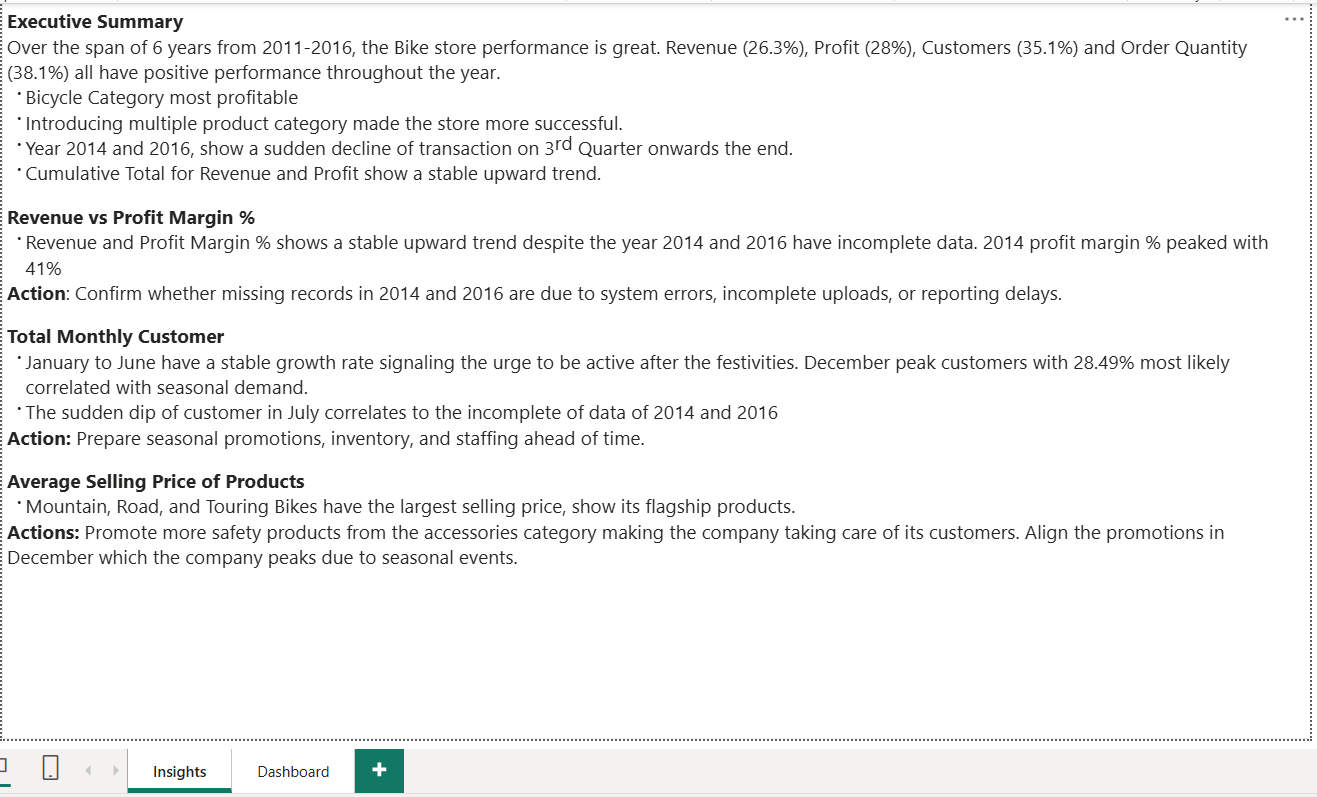

Layout of this report page (visuals, bound fields, positions):
{"tool":"powerbi","page":{"name":"Insights","canvas":[1280,720],"ordinal":0},"visuals":[{"type":"textbox","box":[0,0,1280.3,720.2],"z":0}]}

Visuals, with their boxes on the page's 1280x720 design canvas (x1, y1, x2, y2). These are canvas units, not pixel positions in the 1317x797 screenshot, which may show the page scaled, cropped or inside an application window:
textbox: {"left": 0, "top": 0, "right": 1280, "bottom": 720}
